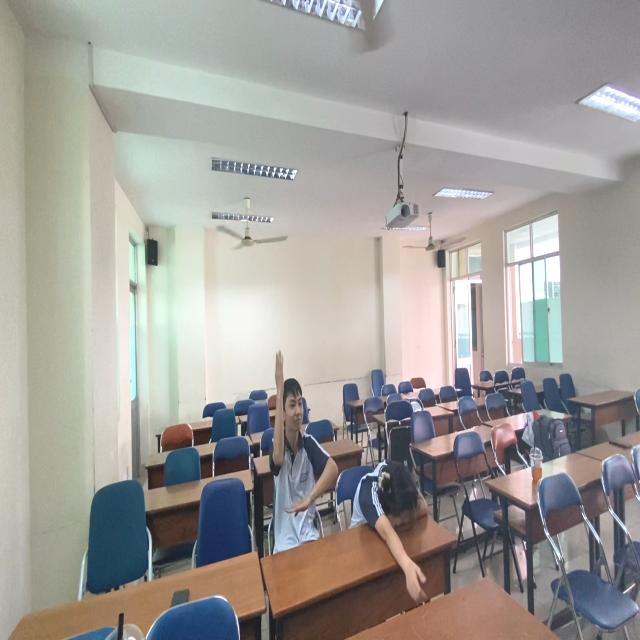raise_hand: (270, 349, 338, 547)
sleep: (346, 451, 451, 544)
